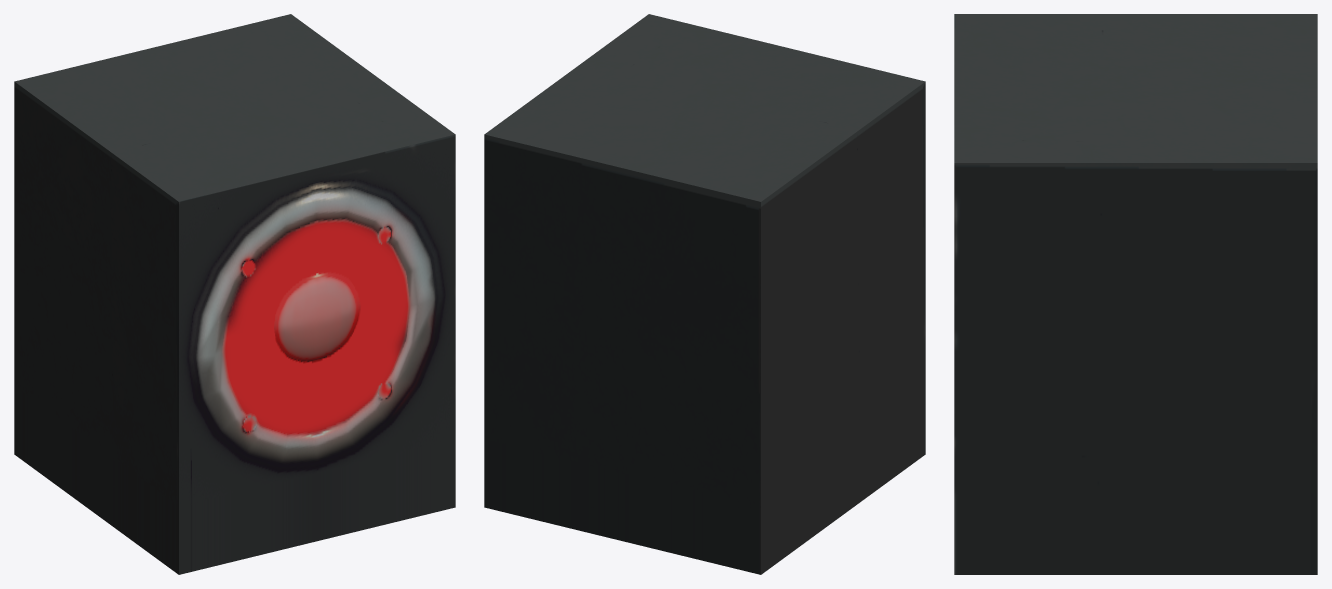
Rendered from SpeakerRed.fbx.
The picture shows the model from 3 angles, left to right: view 1: azimuth 30°, elevation 25°; view 2: azimuth 150°, elevation 25°; view 3: azimuth 270°, elevation 25°; orthographic projection. The views are drawn at different scales.
Parts seen in each view (by area): view 1: LilSpeakerRed_low; view 2: LilSpeakerRed_low; view 3: LilSpeakerRed_low.
Part boxes in pixels (left/top/right/bottom): LilSpeakerRed_low: left=14, top=14, right=455, bottom=574; LilSpeakerRed_low: left=484, top=14, right=925, bottom=574; LilSpeakerRed_low: left=954, top=14, right=1317, bottom=574.
Size of the model in its own units: 528 by 680 by 544.
Materials: 1 (1 with a texture image).
